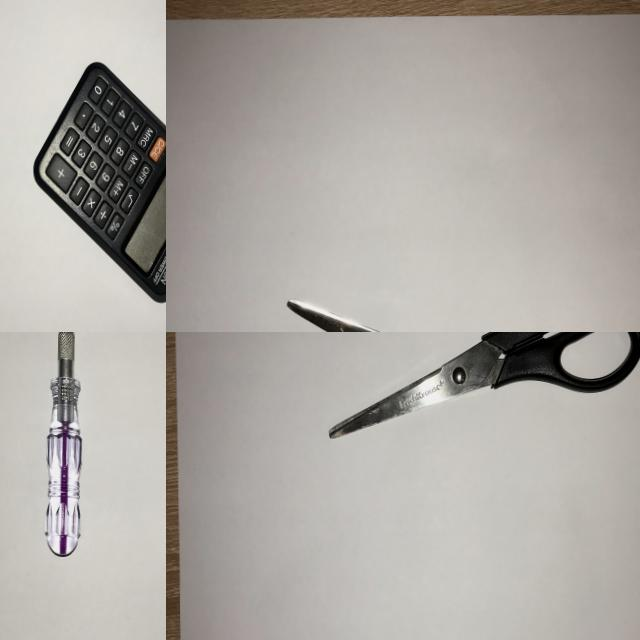calculator: (27, 52, 166, 311)
scissors: (317, 332, 640, 446), (282, 280, 612, 332)
screwdriver: (39, 332, 89, 567)
